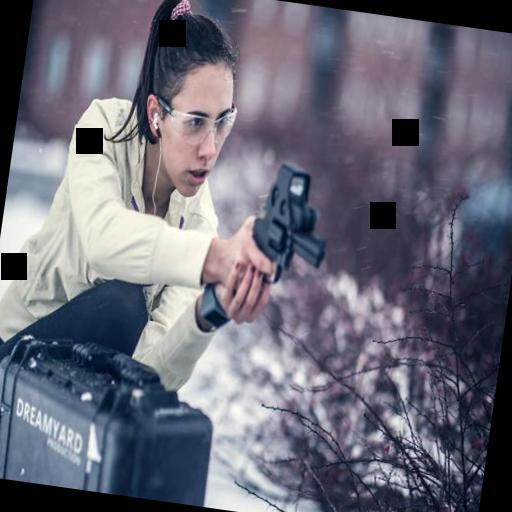Handgun: (239, 147, 338, 295)
